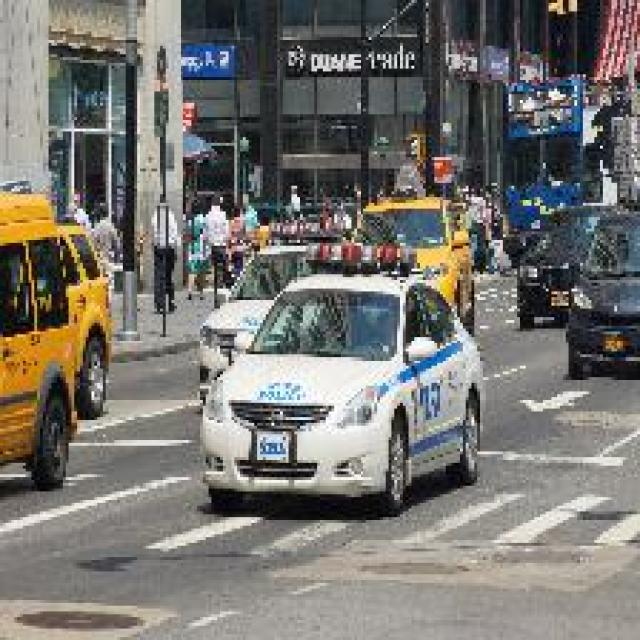Police-car: (197, 266, 483, 514)
